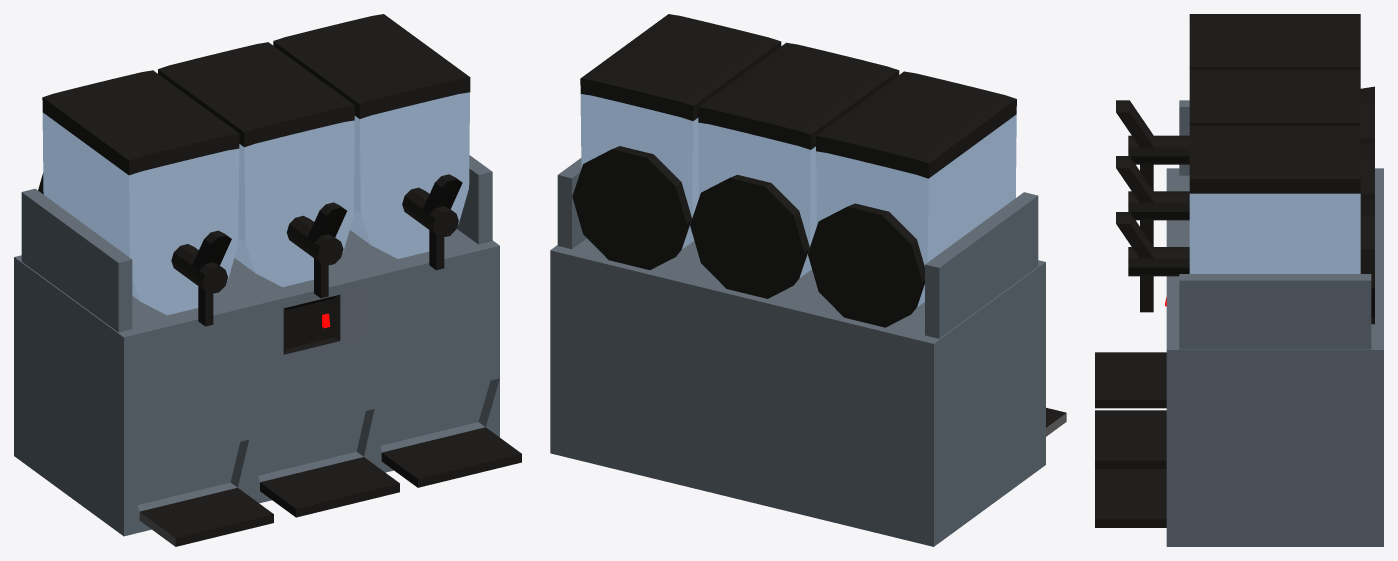
The model's file is SlusheeMachine.fbx.
The picture shows the model from 3 angles, left to right: view 1: azimuth 30°, elevation 25°; view 2: azimuth 150°, elevation 25°; view 3: azimuth 270°, elevation 25°; orthographic projection. The views are drawn at different scales.
Visible parts, largest first — view 1: SlusheeMachine; view 2: SlusheeMachine; view 3: SlusheeMachine.
Part boxes in pixels (x1,y1,x2,y2): SlusheeMachine: (14,14,521,546); SlusheeMachine: (550,14,1066,546); SlusheeMachine: (1095,14,1383,546).
Bounding box in the file's own units: 1.98 × 1.83 × 1.33.
